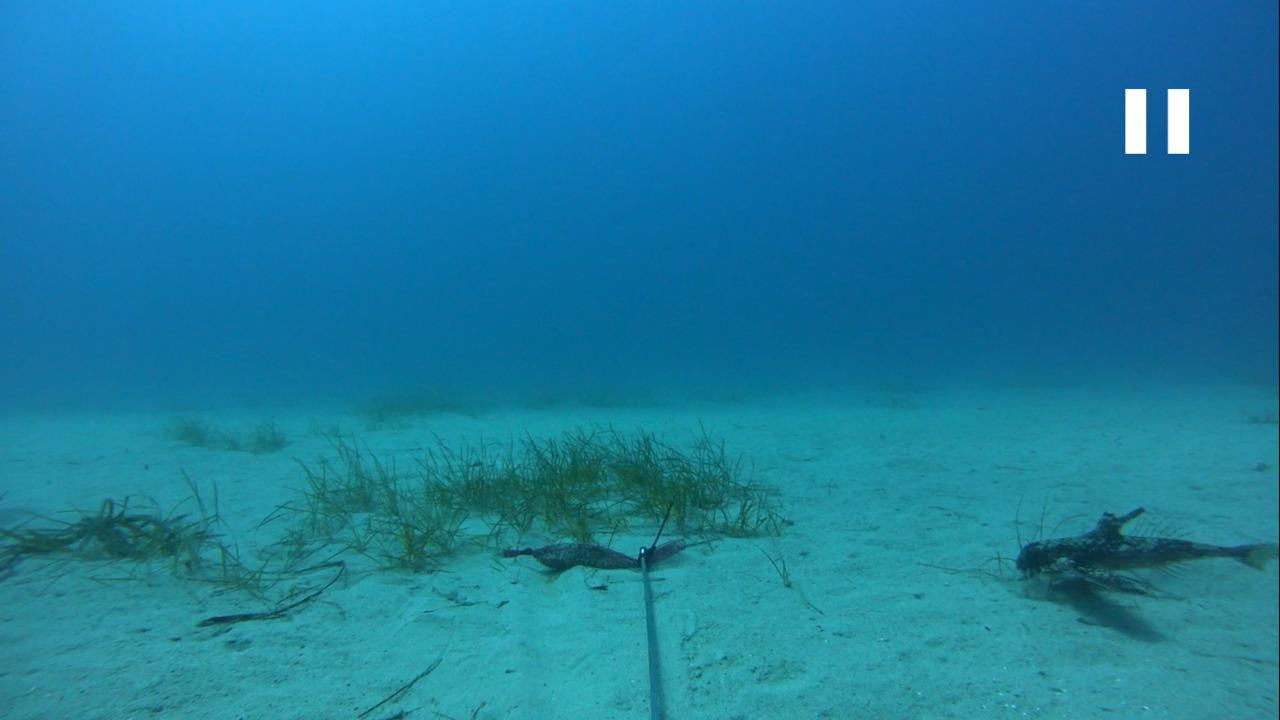dactylopterus: (1014, 506, 1279, 614)
